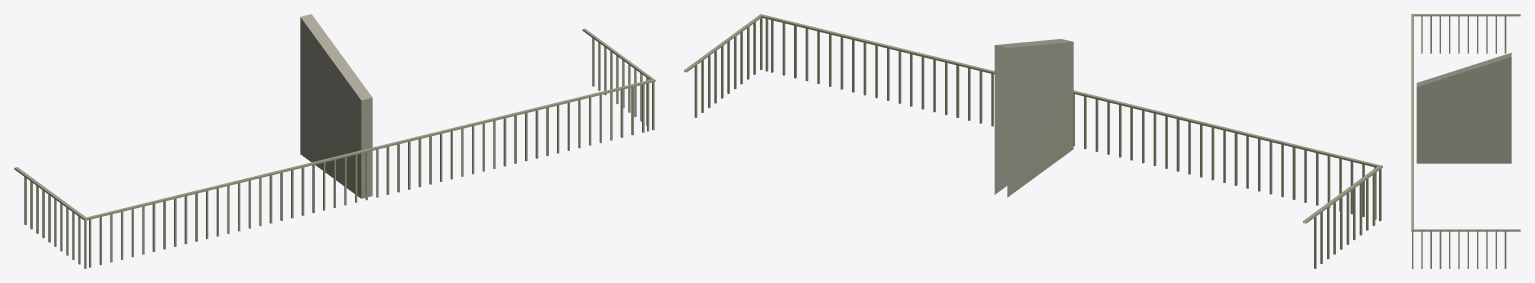
The model's file is RoofBalcon.fbx.
3 renders of one model, left to right at view 1: azimuth 30°, elevation 25°; view 2: azimuth 150°, elevation 25°; view 3: azimuth 270°, elevation 25°, orthographic. The views are drawn at different scales.
Parts seen in each view (by area): view 1: BalconTopClosed; view 2: BalconTopClosed; view 3: BalconTopClosed.
Boxes of the visible parts, x1,y1,x2,y2 form: BalconTopClosed: [14, 14, 655, 268]; BalconTopClosed: [684, 14, 1382, 268]; BalconTopClosed: [1411, 14, 1520, 268].
Size of the model in its own units: 24.59 by 5.25 by 5.66.
